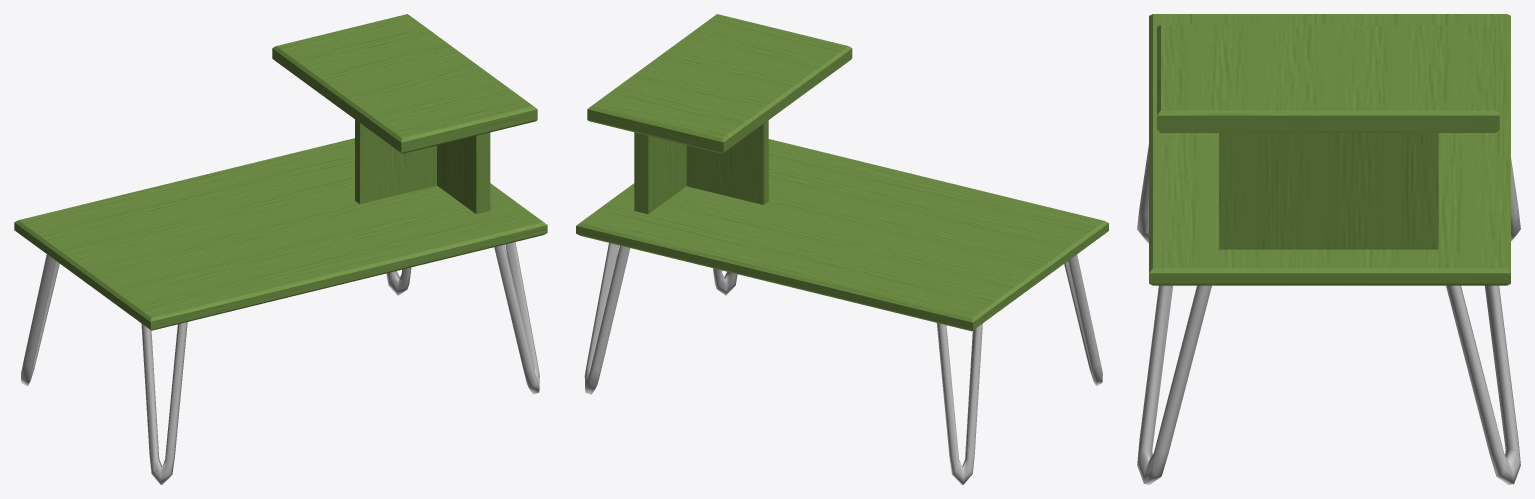
Rendered from End_Table_07.FBX.
3 views of the same model, side by side, from view 1: azimuth 30°, elevation 25°; view 2: azimuth 150°, elevation 25°; view 3: azimuth 270°, elevation 25° (orthographic). The views are drawn at different scales.
Parts seen in each view (by area): view 1: End_Table; view 2: End_Table; view 3: End_Table.
Part boxes in pixels (box(x1,y1,x2,y2)): End_Table: box(14, 14, 547, 484); End_Table: box(576, 14, 1108, 484); End_Table: box(1137, 14, 1520, 484).
Bounding box in the file's own units: 160 × 109 × 101.
